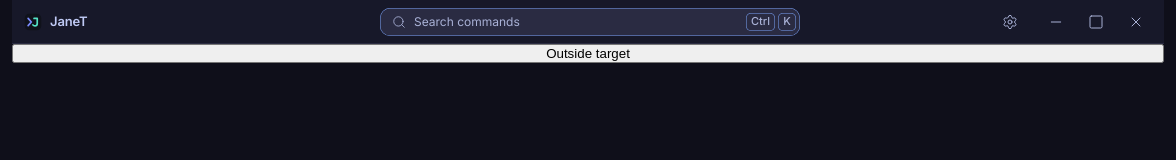
Test: Titlebar › toggles Settings in the right cluster and renders its supplied content
Check: the element named "Open settings" is shown, box [996,8,1156,36]
Click the button named "Open settings" at (1010, 22), box [996,8,1024,36]
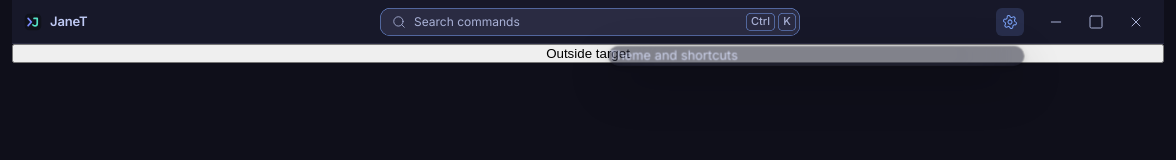
Check: the button named "Hide settings" is expanded, box [996,8,1024,36]
